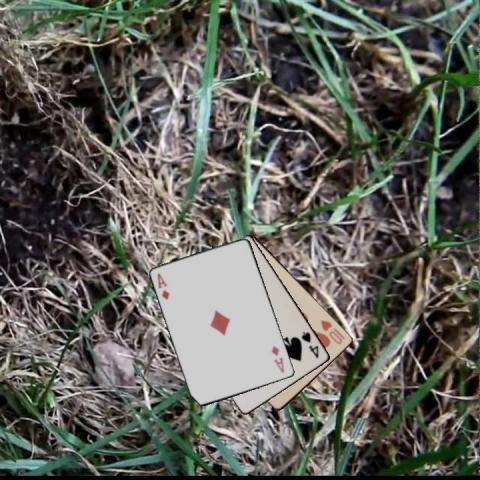10h: (318, 317, 347, 345)
4s: (298, 329, 320, 360)
Ad: (269, 343, 286, 375), (155, 270, 171, 301)
